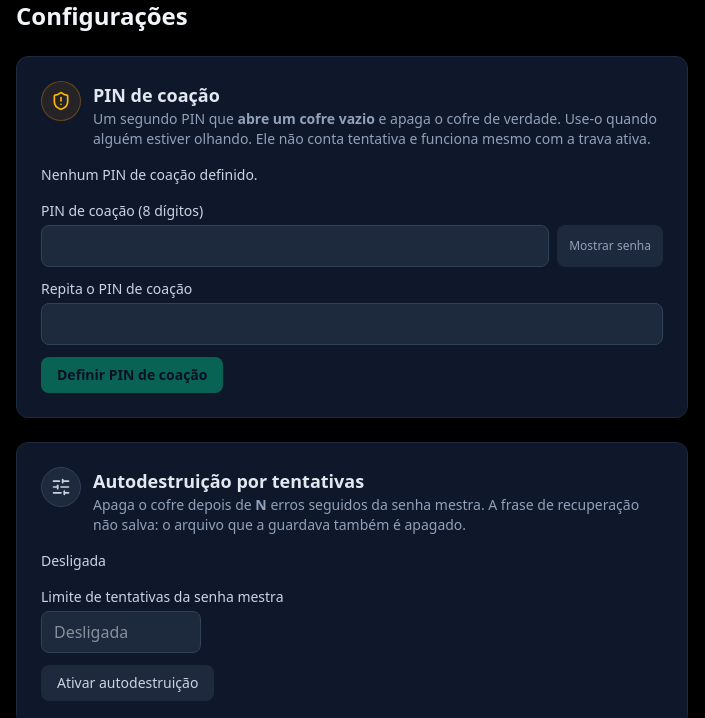
it: Configurações: autodestruição por tentativas › mostra o erro devolvido pelo cofre ao ligar o limite
The image size is (705, 718).
Click the button "Ativar autodestruição".
click(128, 683)  # box [41, 665, 214, 701]
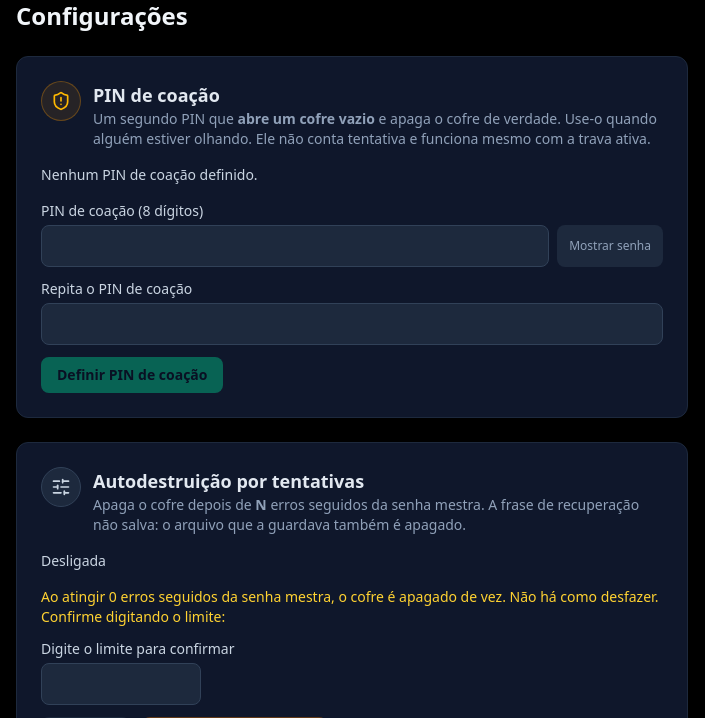
Type "10" into the field labelled "Digite o limite para confirmar".
click(121, 684); type("10")  # box [41, 663, 201, 705]
(page scrolled)
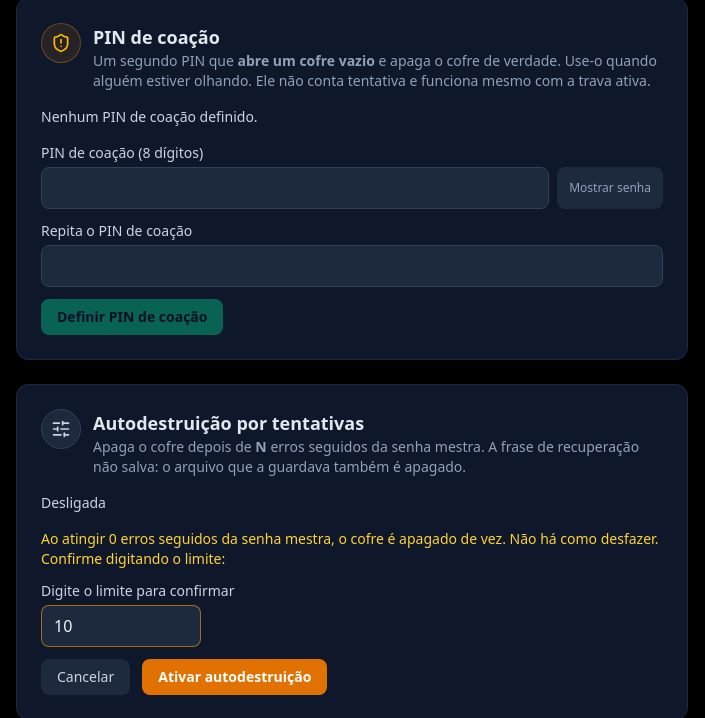
Click the button "Ativar autodestruição".
click(235, 677)  # box [142, 659, 327, 695]
(page scrolled)
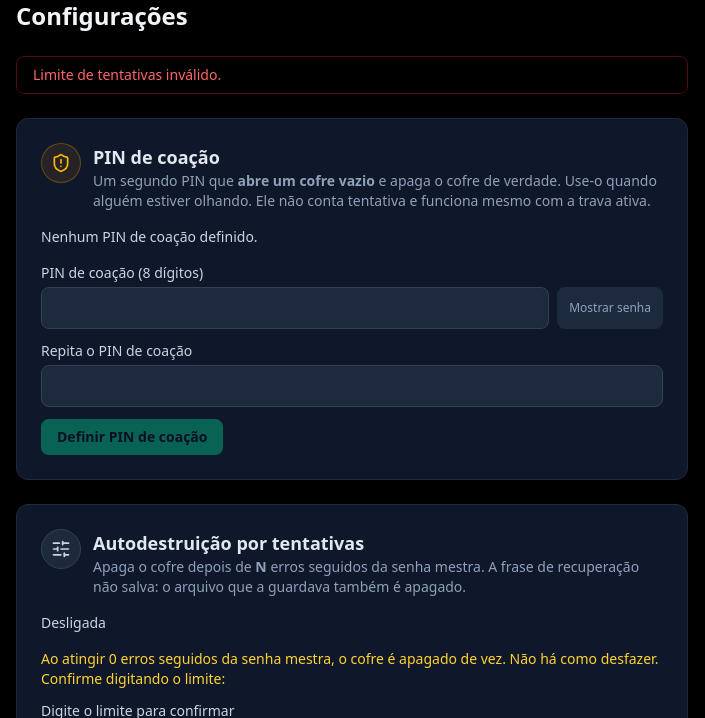
Expected: the text "Limite de tentativas inválido." is shown, [16, 56, 688, 94]
